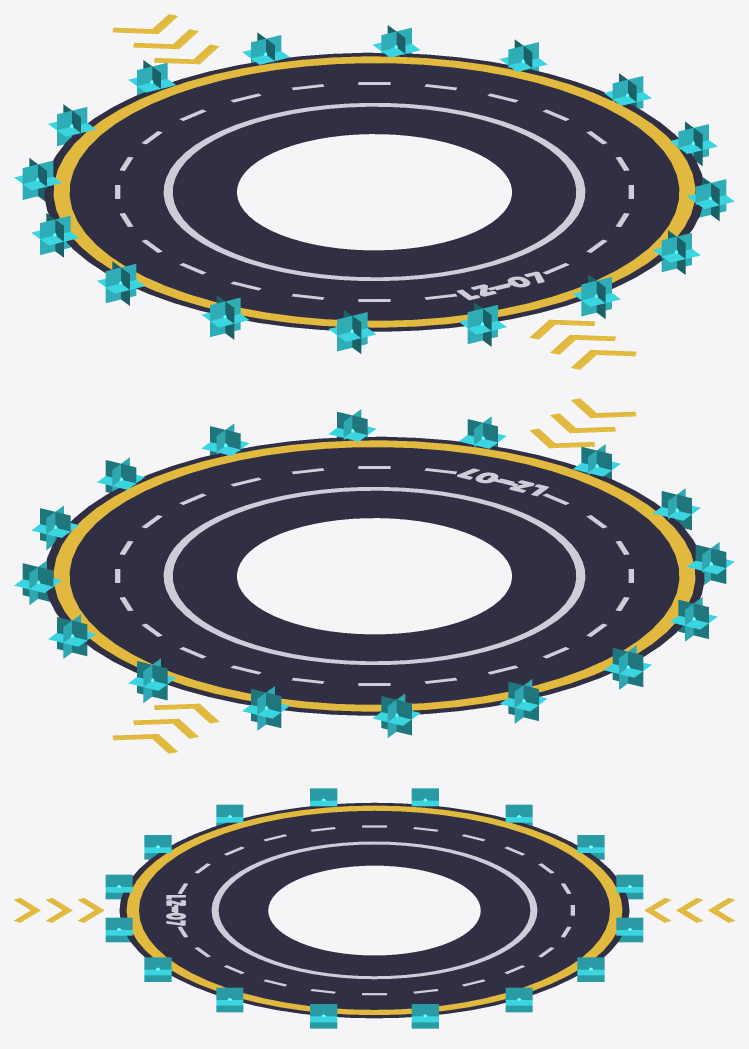
File: neon_helipad.glb
3 renders of one model, top to bottom at view 1: azimuth 30°, elevation 25°; view 2: azimuth 150°, elevation 25°; view 3: azimuth 270°, elevation 25°, orthographic. The views are drawn at different scales.
Parts seen in each view (by area): view 1: Helipad; view 2: Helipad; view 3: Helipad.
Boxes of the visible parts, left/top/right/bottom form: Helipad: left=14, top=14, right=734, bottom=369; Helipad: left=14, top=398, right=734, bottom=753; Helipad: left=14, top=788, right=734, bottom=1028.
Size of the model in its own units: 15.19 by 0.77 by 20.35.
